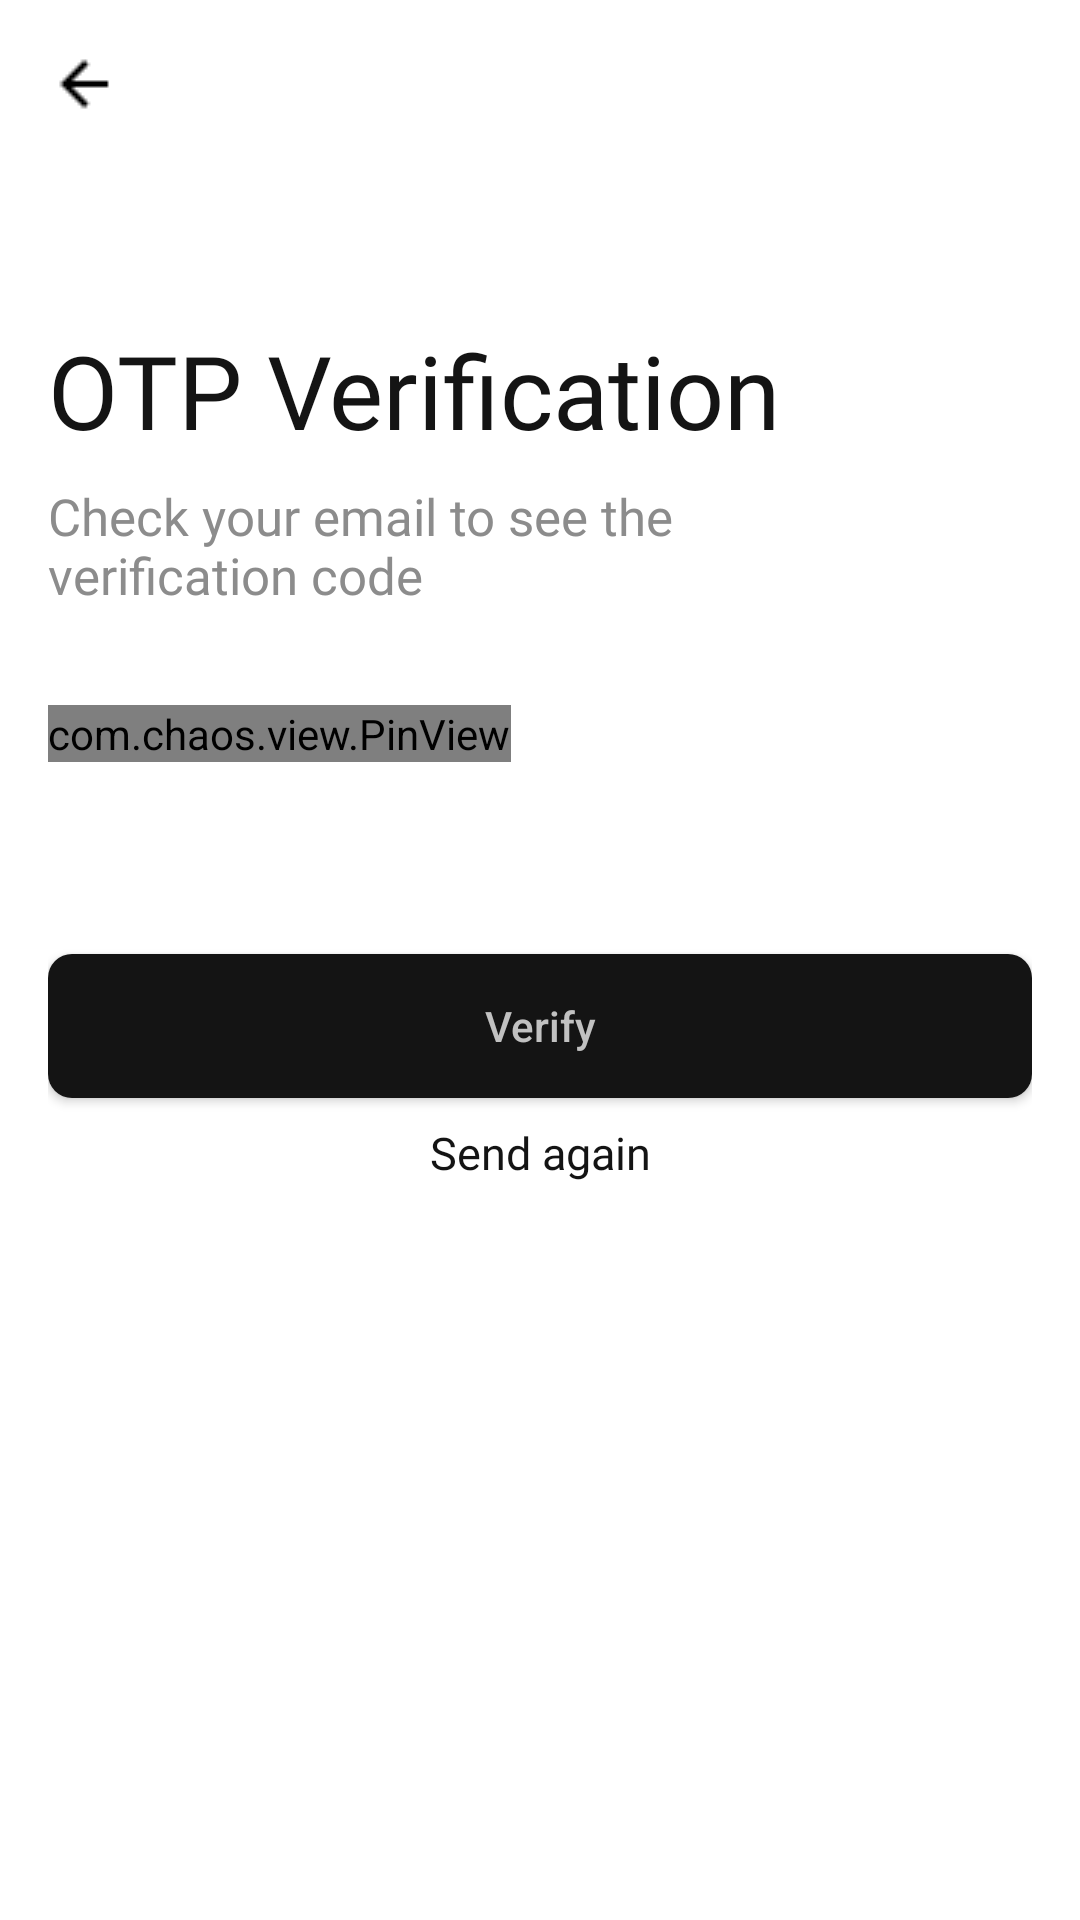

Icon bounding boxes for this 1080 × 1920 phone screenshot, format (x1, y1, x2, y2):
arrow left: (59, 59, 109, 109)
